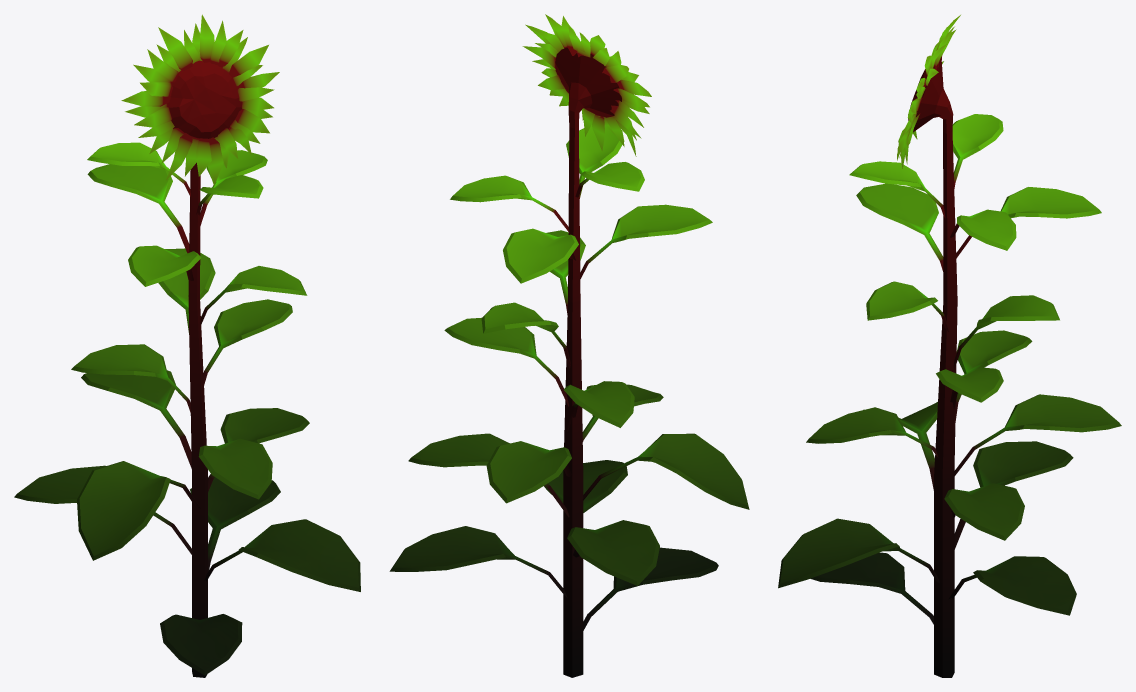
The model's file is SM_Env_Sunflower_01.FBX.
3 renders of one model, left to right at view 1: azimuth 30°, elevation 25°; view 2: azimuth 150°, elevation 25°; view 3: azimuth 270°, elevation 25°, orthographic.
Parts seen in each view (by area): view 1: SM_Env_Sunflower_01; view 2: SM_Env_Sunflower_01; view 3: SM_Env_Sunflower_01.
Part boxes in pixels (x1=…): SM_Env_Sunflower_01: x1=14, y1=14, x2=360, y2=677; SM_Env_Sunflower_01: x1=389, y1=14, x2=749, y2=677; SM_Env_Sunflower_01: x1=778, y1=15, x2=1121, y2=677.
Bounding box in the file's own units: 71.68 × 78.13 × 163.
